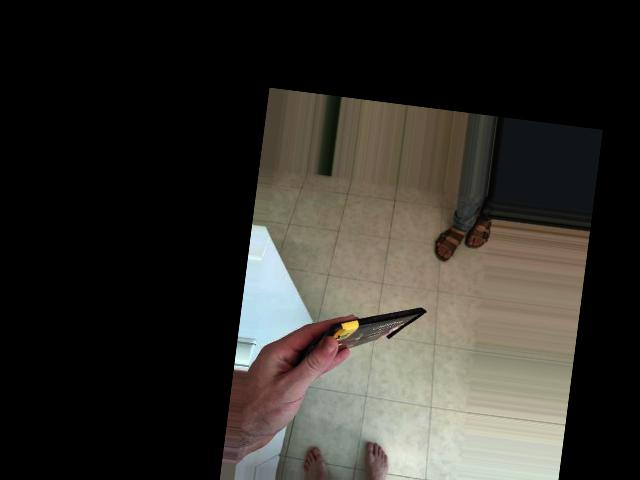chocolate: (294, 287, 428, 380)
